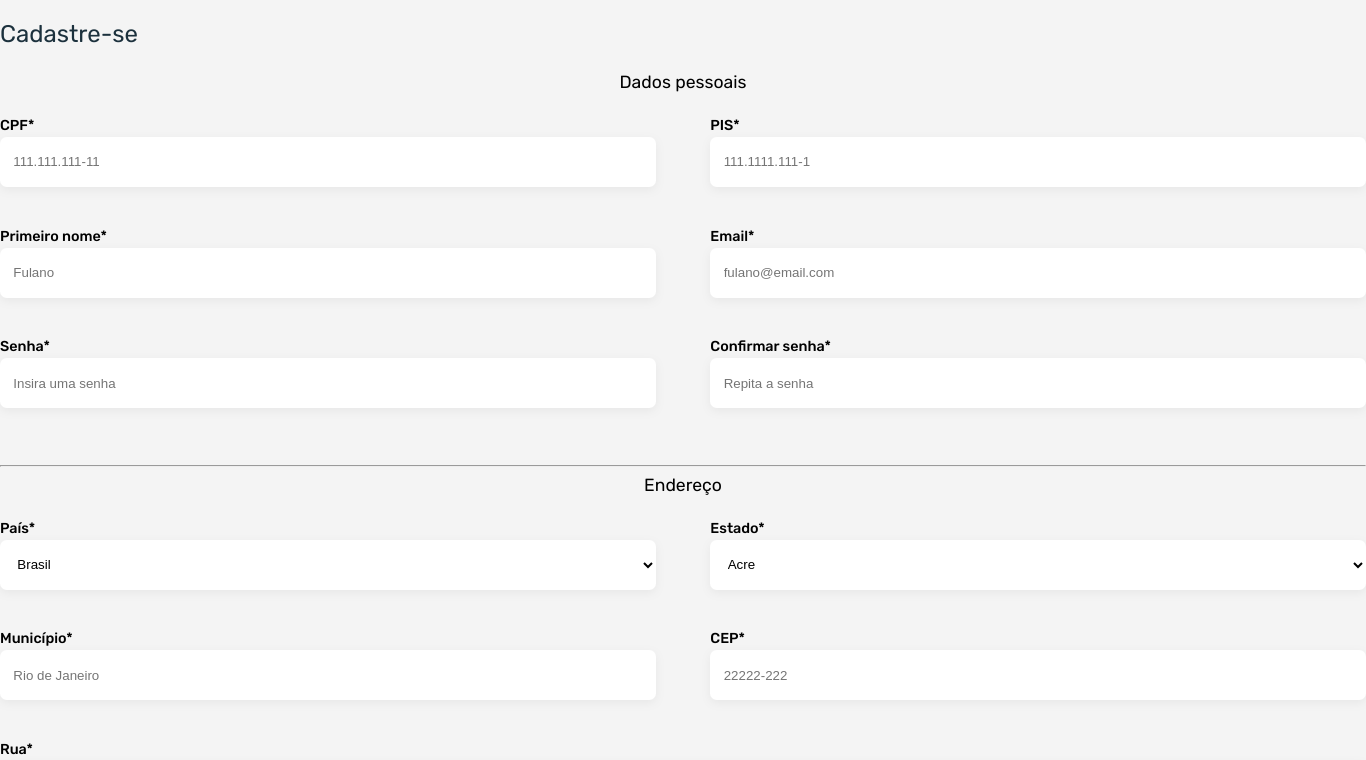
Test: Register form › submit flow › form shows error if confirmPassword is not the same as password
In the password field labelled "Senha*": (328, 383) [0,358,656,408], type "pass1"
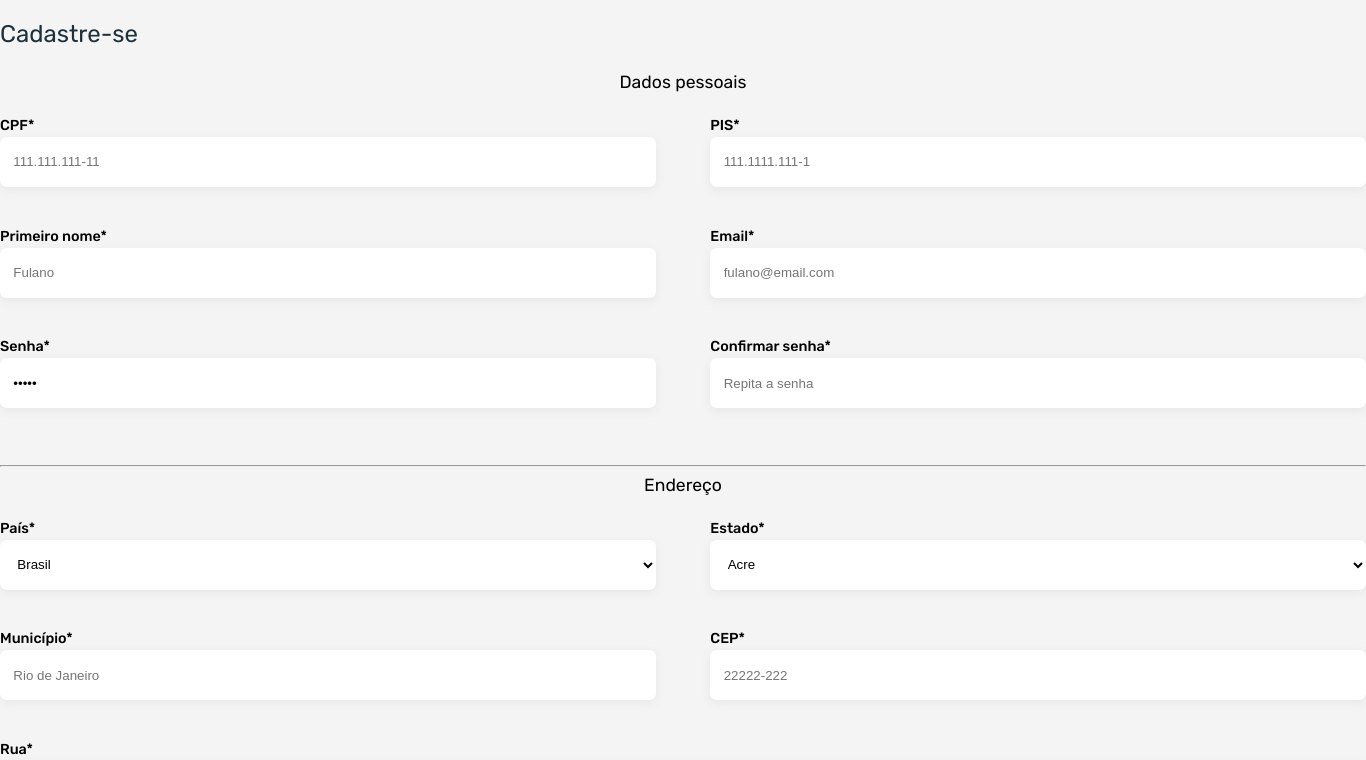
In the password field labelled "Confirmar senha*": (1038, 383) [710,358,1365,408], type "pass2"
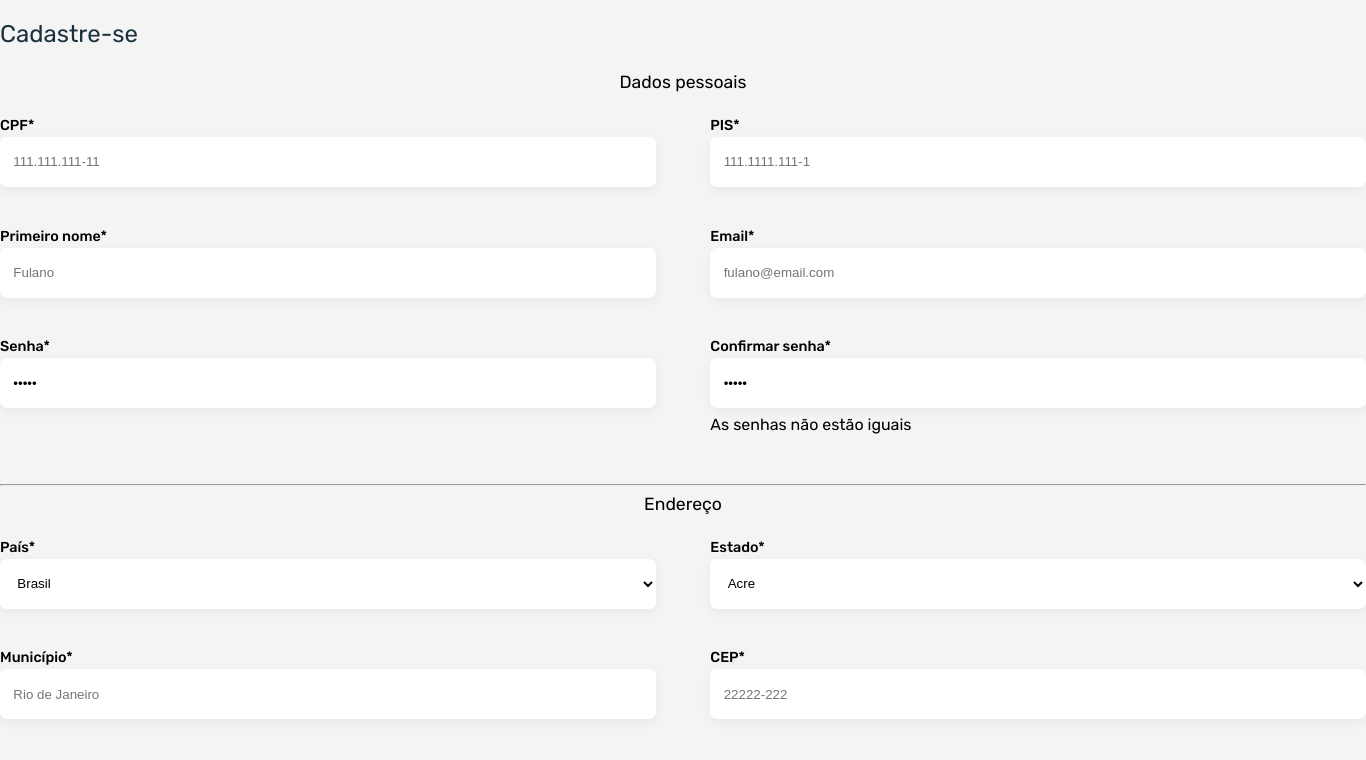
Now the text "As senhas não estão iguais" is shown, box [710,415,911,434]
